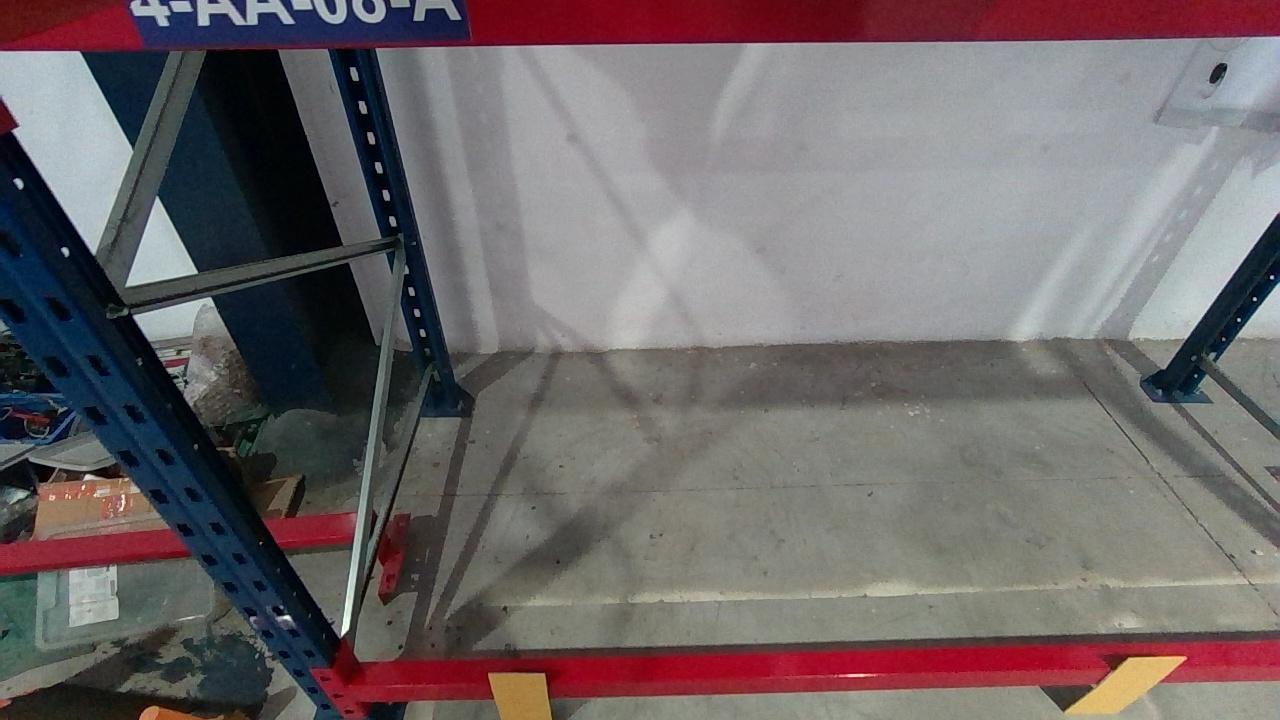h_rack: (340, 639, 1276, 701), (20, 5, 1280, 51)
orange_strip: (1070, 656, 1189, 718), (486, 672, 552, 719)
